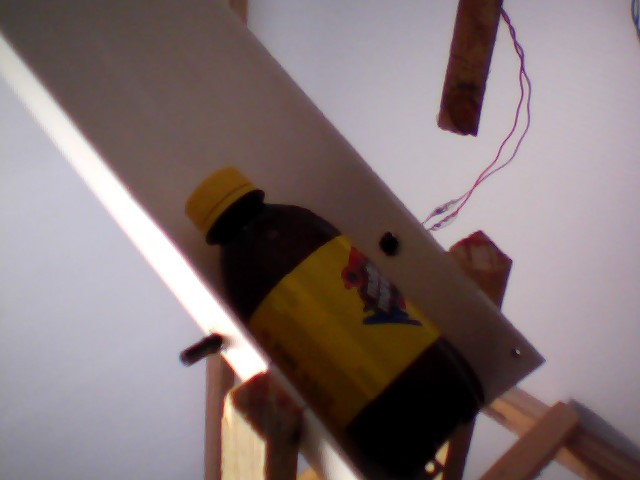plastico: (182, 162, 490, 480)
